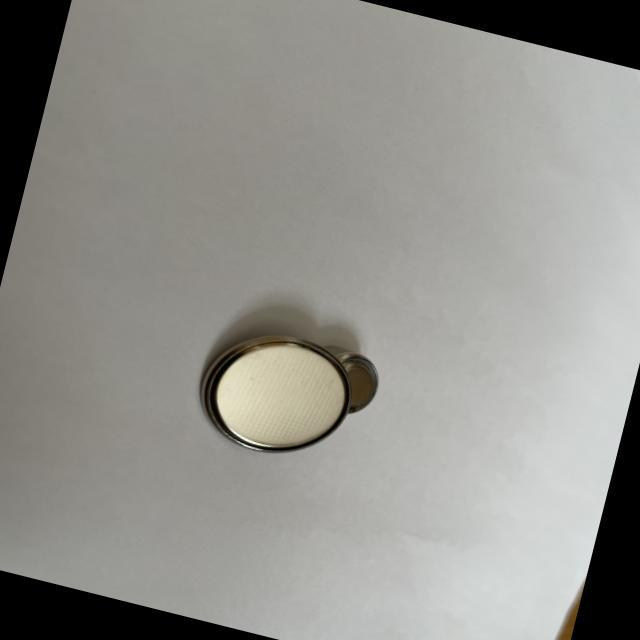COIN: (188, 316, 362, 469), (311, 346, 382, 420)
